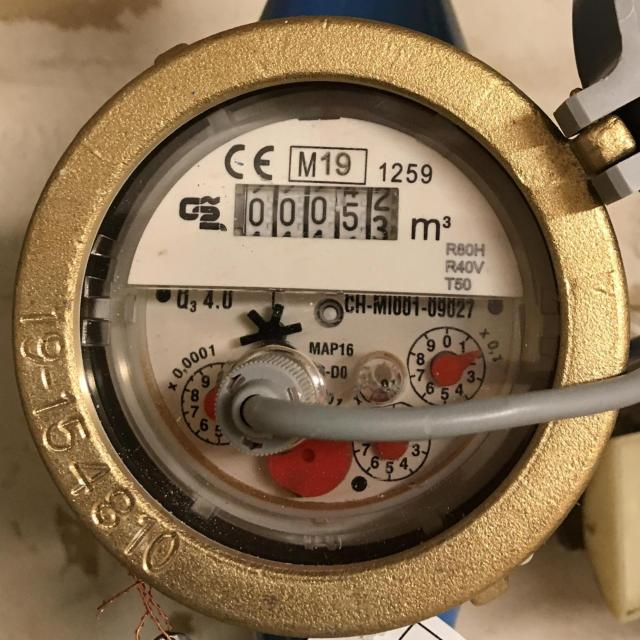gaz_meter: (82, 80, 566, 554)
indication: (230, 179, 401, 240)
